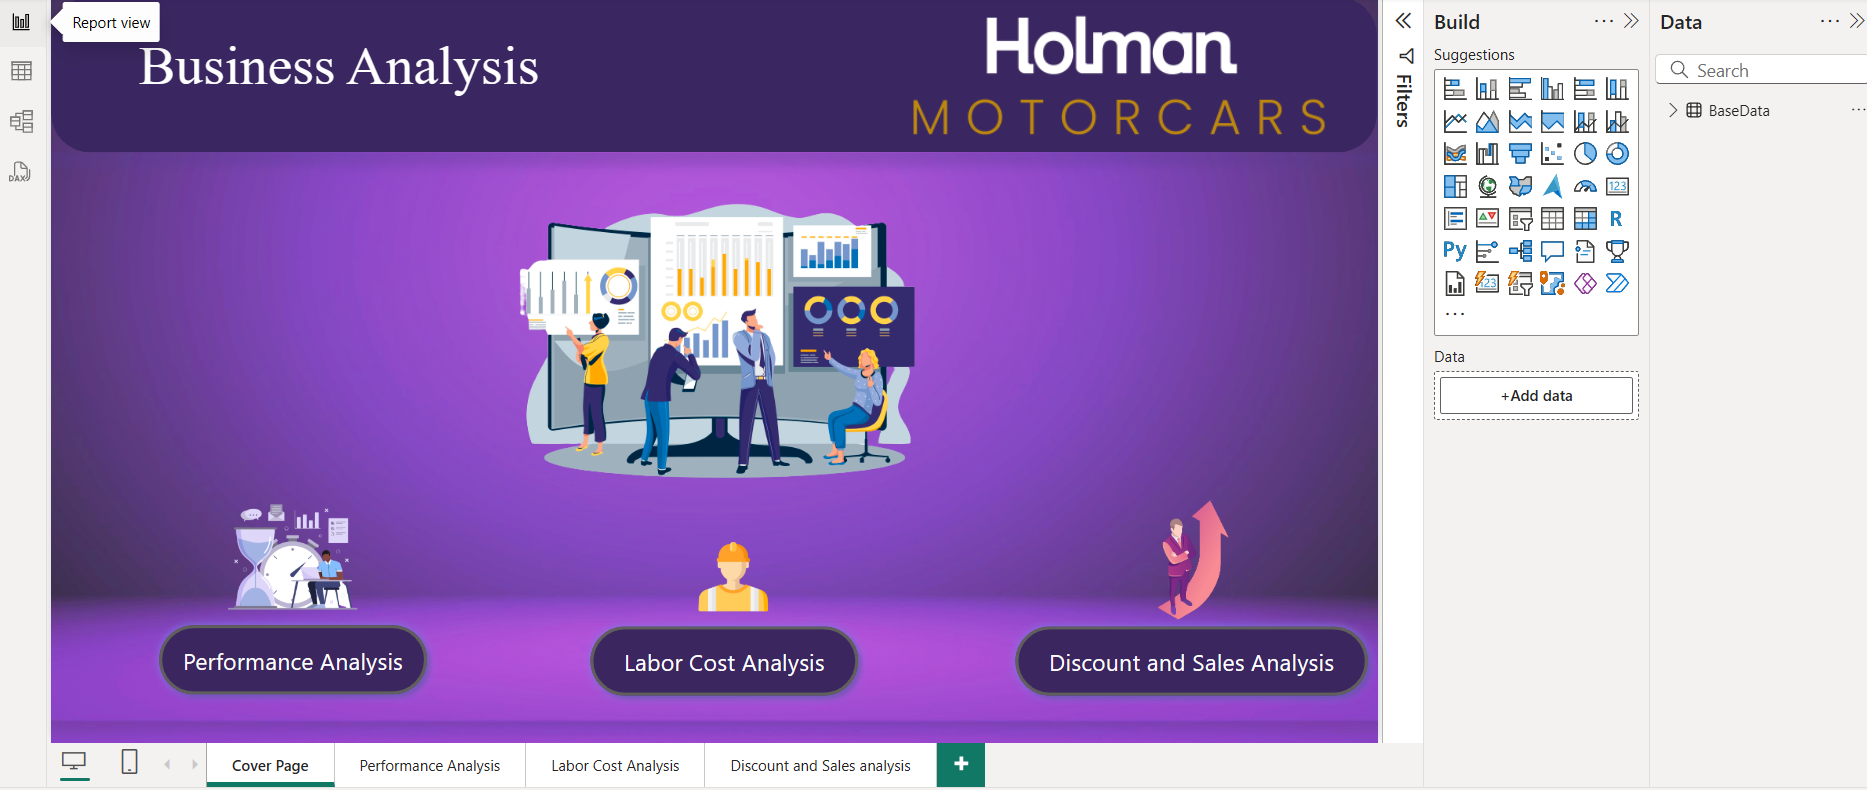

The page's visual inventory and layout, read from the dashboard file:
{"tool":"powerbi","page":{"name":"Cover Page","canvas":[1280,720],"ordinal":0},"visuals":[{"type":"shape","box":[0,0,1280,150],"z":0},{"type":"image","box":[820,13.3,420,125],"z":1000},{"type":"textbox","box":[80,31.7,431.7,90],"z":2000},{"type":"actionButton","box":[95,596.7,276.7,85],"z":3000},{"type":"actionButton","box":[921.7,598.3,358.3,85],"z":4000},{"type":"actionButton","box":[511.7,598.3,276.7,85],"z":5000},{"type":"image","box":[620,521.7,76.7,76.7],"z":6000},{"type":"image","box":[0,174.3,1280,318.6],"z":7000},{"type":"image","box":[154.3,462.9,157.1,154.3],"z":8000},{"type":"image","box":[990,452.9,222.9,174.3],"z":9000}]}

Visuals, with their boxes on the page's 1280x720 design canvas (x1, y1, x2, y2). These are canvas units, not pixel positions in the 1867x790 screenshot, which may show the page scaled, cropped or inside an application window:
shape: box=[0, 0, 1280, 150]
image: box=[820, 13, 1240, 138]
textbox: box=[80, 32, 512, 122]
actionButton: box=[95, 597, 372, 682]
actionButton: box=[922, 598, 1280, 683]
actionButton: box=[512, 598, 788, 683]
image: box=[620, 522, 697, 598]
image: box=[0, 174, 1280, 493]
image: box=[154, 463, 311, 617]
image: box=[990, 453, 1213, 627]
